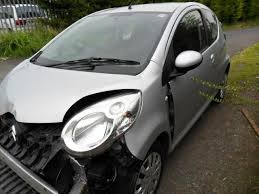Dent: (1, 73, 18, 117)
Smashed: (1, 107, 142, 194), (167, 80, 175, 149)
